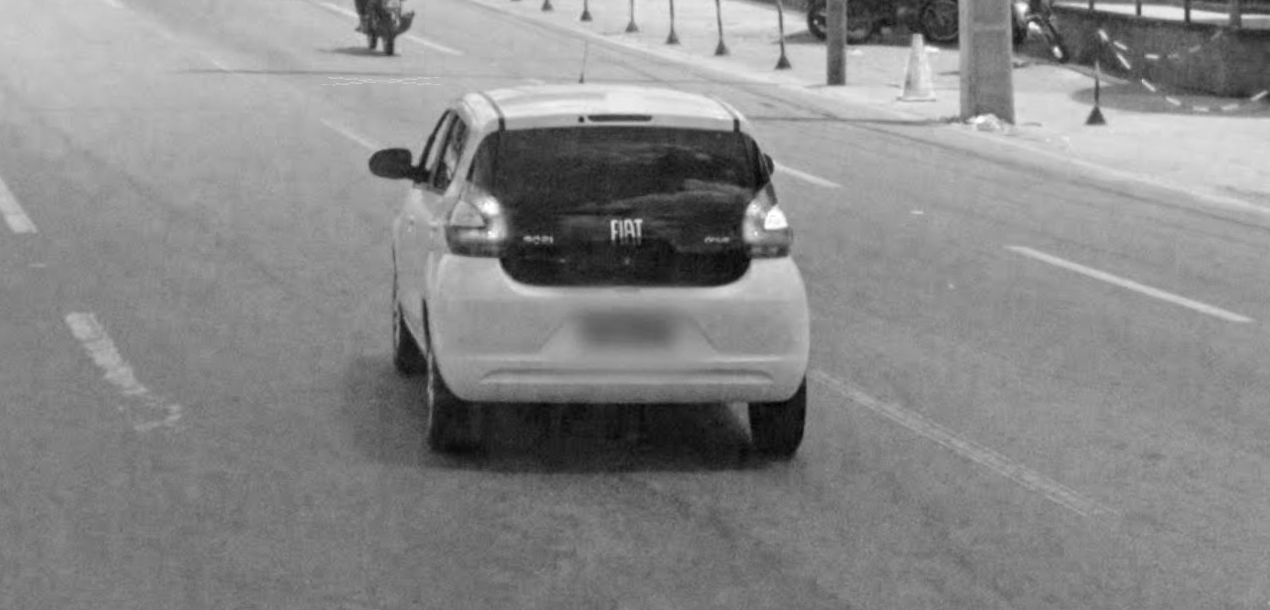car: (363, 37, 825, 467)
